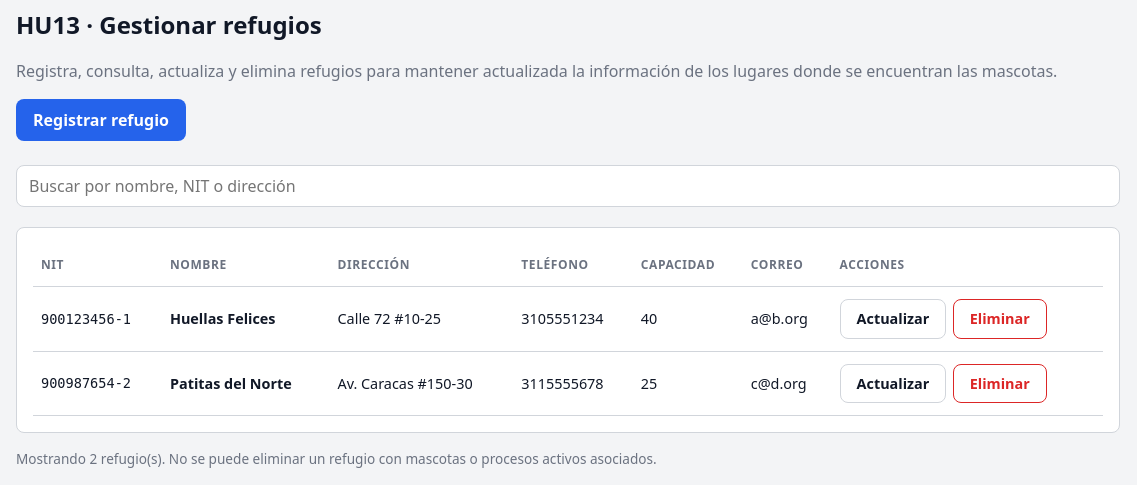
Scenario: HU13 - ShelterManager › carga datos en el formulario al editar
The image size is (1137, 485).
Check: the text "Huellas Felices" is shown, box [162,286,330,351]
Click the button "Actualizar" in the row of "900123456-1" at (893, 319), box [840,299,946,339]
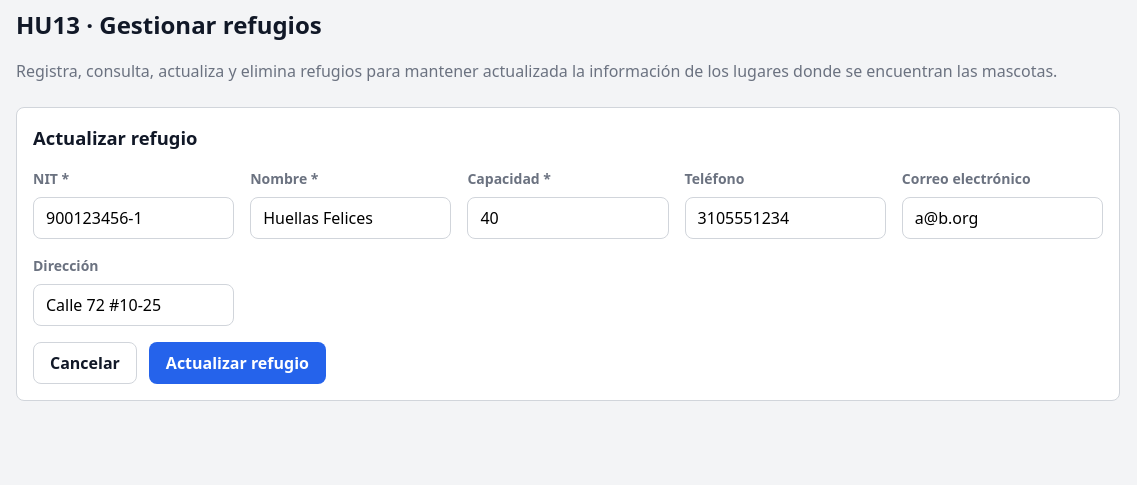
Check: the heading "Actualizar refugio" is shown, box [33,125,197,150]
Check: the field labelled "NIT *" holds "900123456-1", box [33,197,234,239]
Check: the field labelled "Nombre *" holds "Huellas Felices", box [250,197,451,239]
